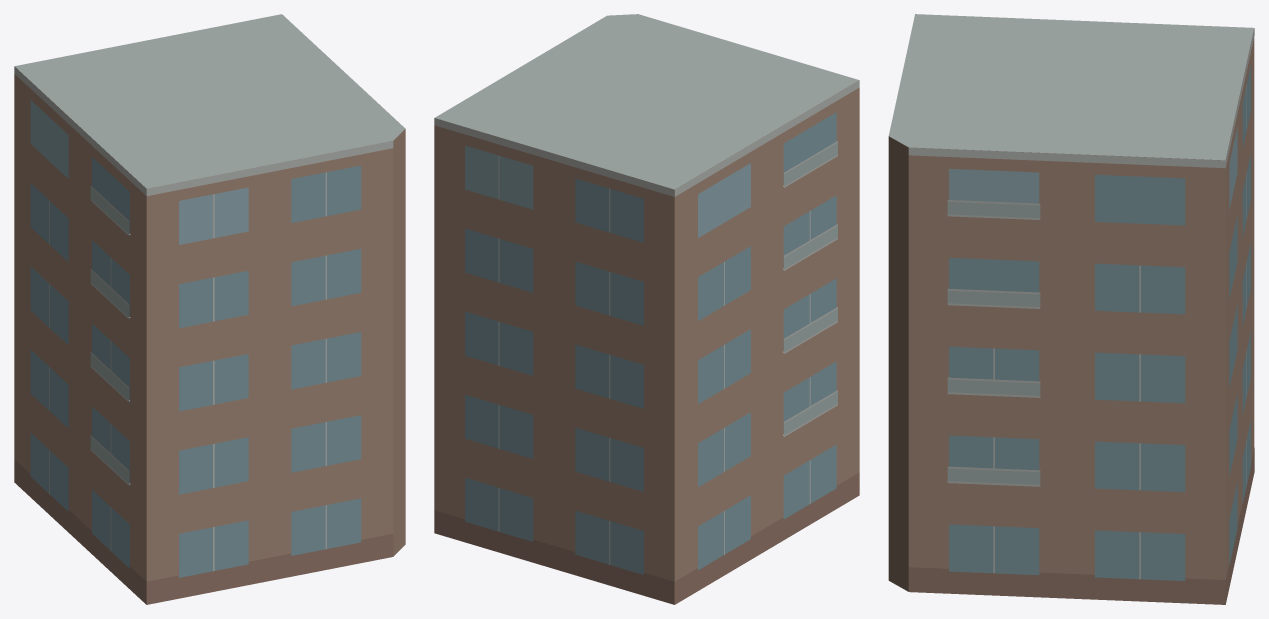
File: survey-upis-33018920.glb
3 renders of one model, left to right at view 1: azimuth 30°, elevation 25°; view 2: azimuth 150°, elevation 25°; view 3: azimuth 270°, elevation 25°, orthographic. The views are drawn at different scales.
Parts seen in each view (by area): view 1: survey-upis-33018920.tmp; view 2: survey-upis-33018920.tmp; view 3: survey-upis-33018920.tmp.
Boxes of the visible parts, left/top/right/bottom form: survey-upis-33018920.tmp: left=14, top=14, right=405, bottom=604; survey-upis-33018920.tmp: left=434, top=14, right=859, bottom=604; survey-upis-33018920.tmp: left=888, top=14, right=1254, bottom=604.
Bounding box in the file's own units: 9.68 × 13.7 × 10.22.
